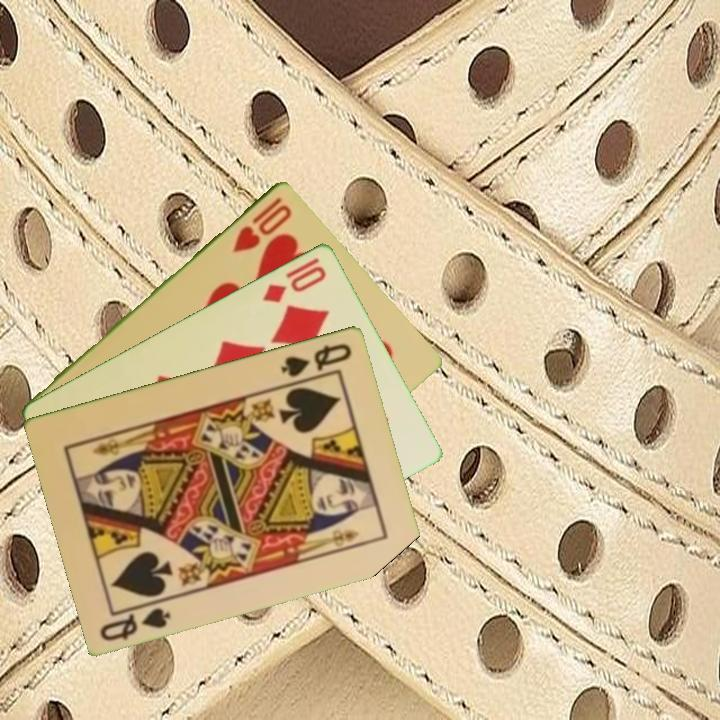10d: (259, 261, 330, 306)
10h: (228, 193, 295, 255)
Qs: (97, 595, 174, 644), (277, 339, 355, 379)
